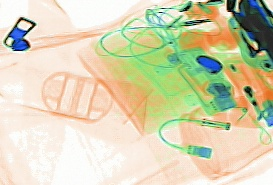lighter: (220, 57, 272, 125)
